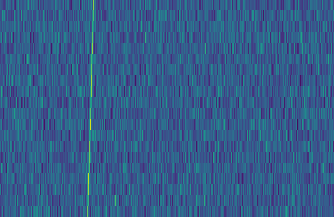signal: (80, 0, 95, 217)
